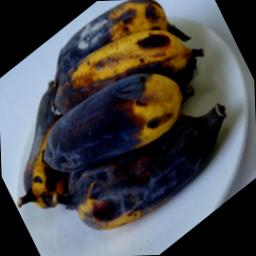Banana Rotten: (7, 17, 253, 256)
